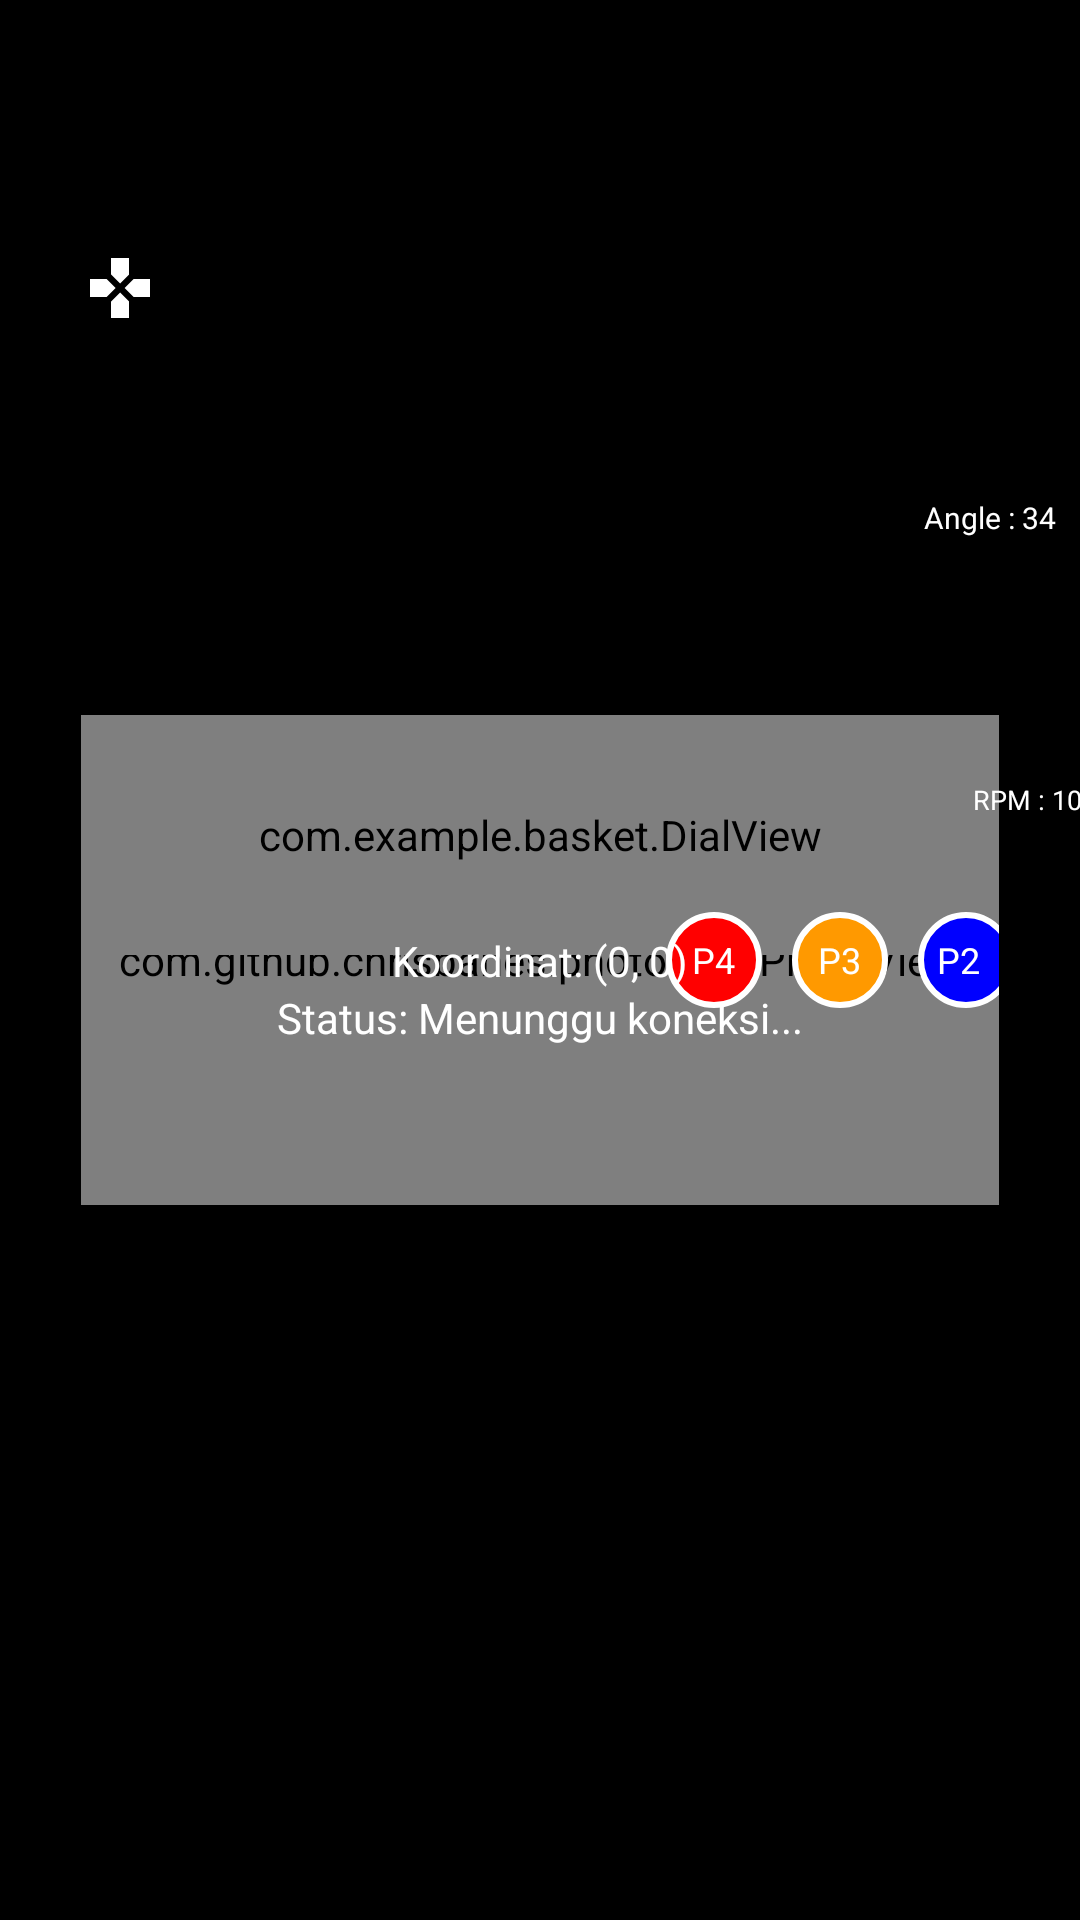

Locate icon controls on the screen. Image size 1080px×1920px, boxes as (x1, y1, x2, y2).
Virtual Controller: (90, 258, 150, 318)
